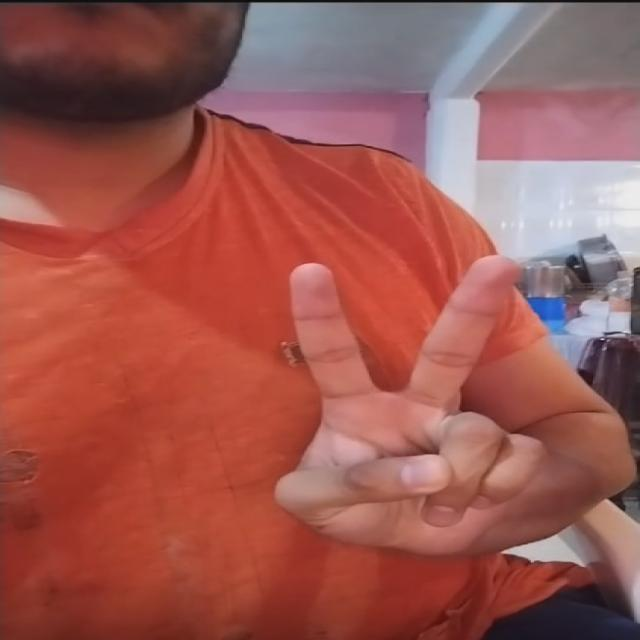V: (260, 245, 587, 571)
